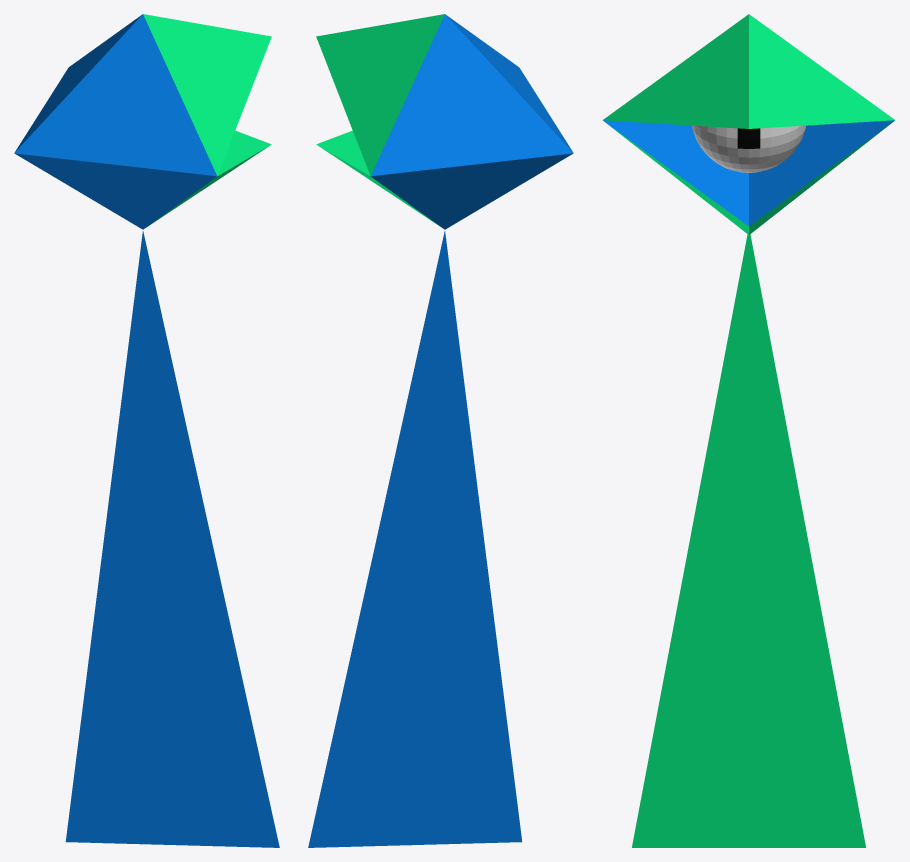
Rendered from alienBeing.glb.
3 views of the same model, side by side, from view 1: azimuth 30°, elevation 25°; view 2: azimuth 150°, elevation 25°; view 3: azimuth 270°, elevation 25° (orthographic).
Visible parts, largest first — view 1: body; view 2: body; view 3: body, eye.
Boxes of the visible parts, x1,y1,x2,y2 form: body: [14, 14, 279, 847]; body: [308, 14, 573, 847]; body: [602, 14, 895, 847]; eye: [692, 125, 805, 172].
Size of the model in its own units: 0.5 by 1.5 by 0.5.
